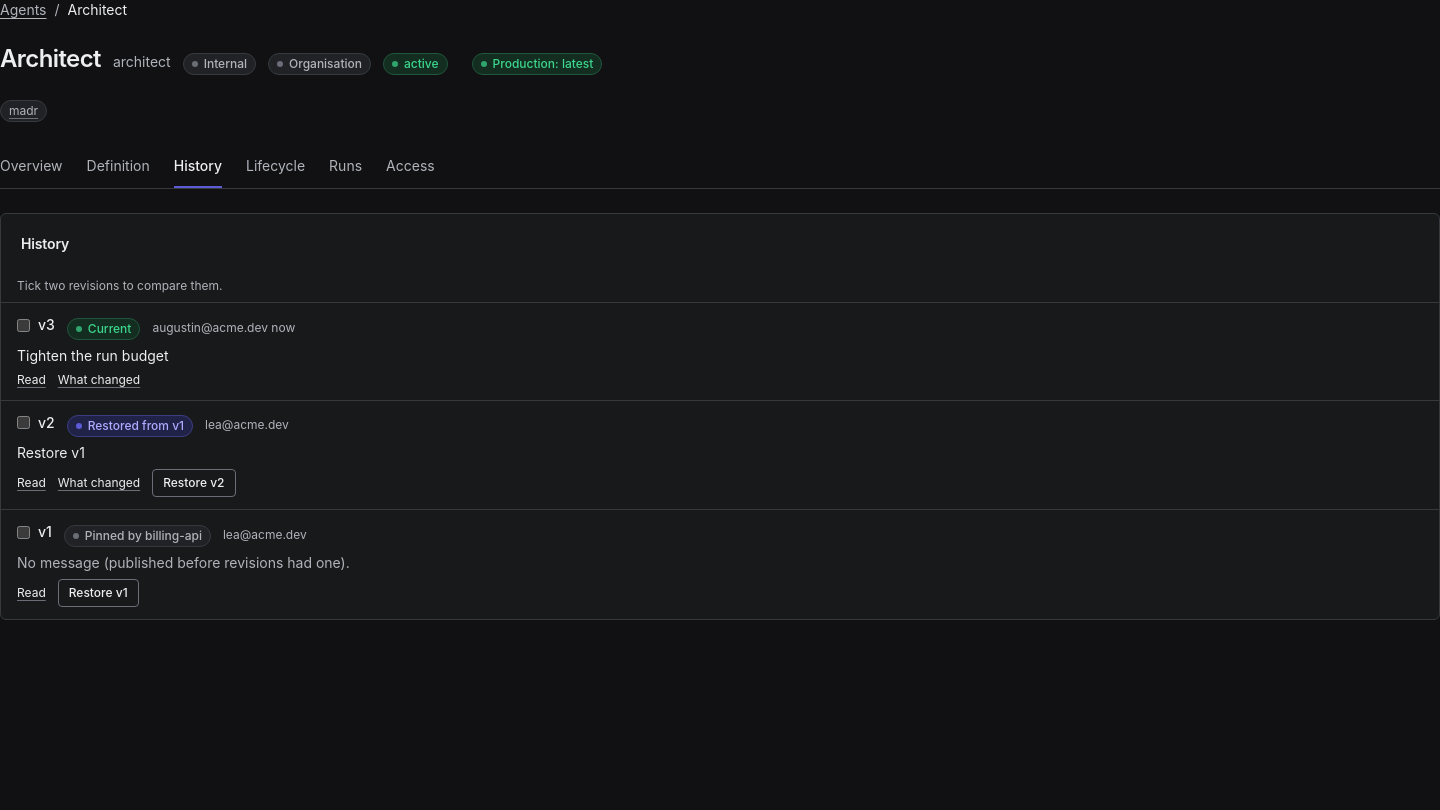
Test: the History tab › shows the refusal of a restore in words
Step 1. Click the button "Restore v2" → {"x": 194, "y": 483}, box [152, 469, 236, 497]
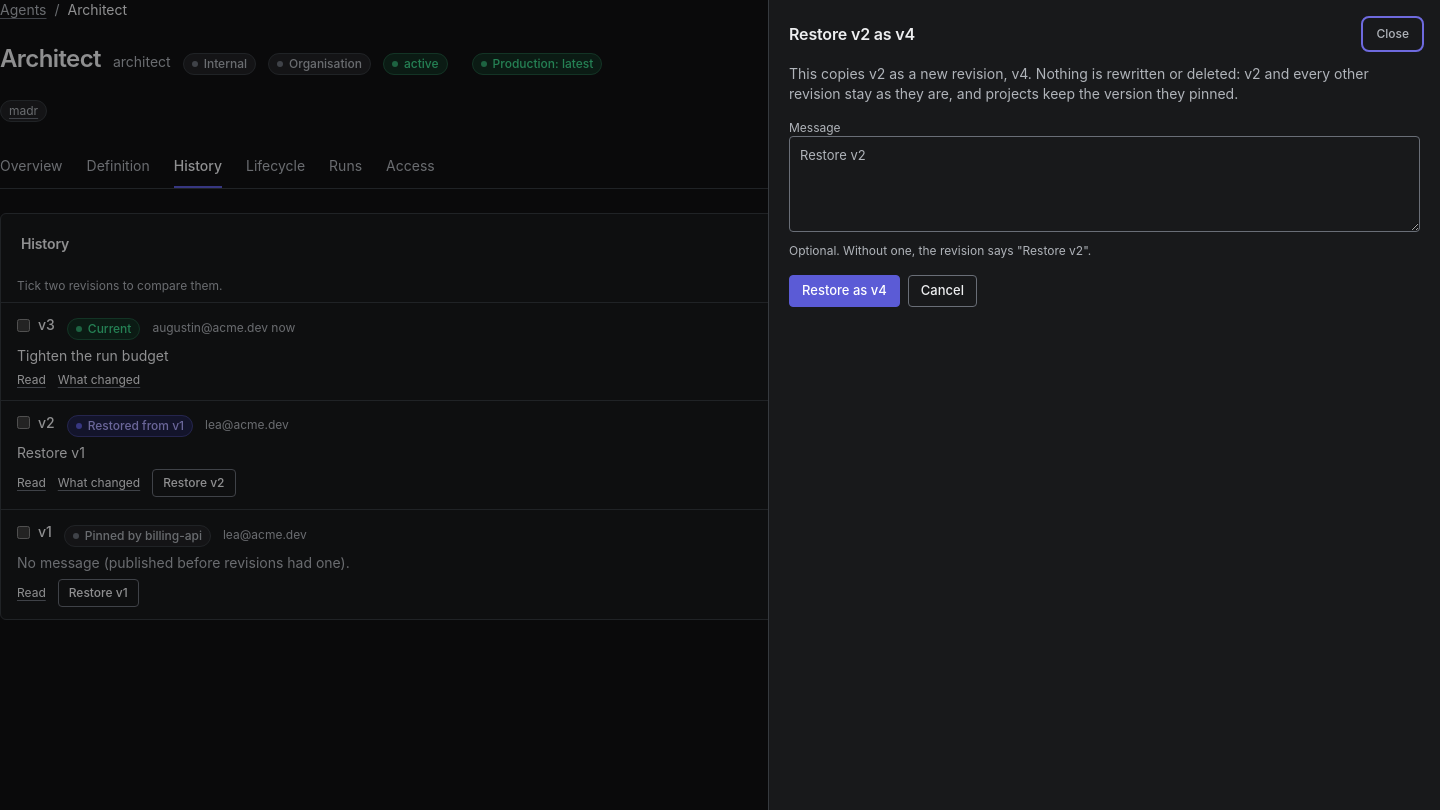
Step 2. Submit the form named "Restore", box [789, 64, 1420, 307]
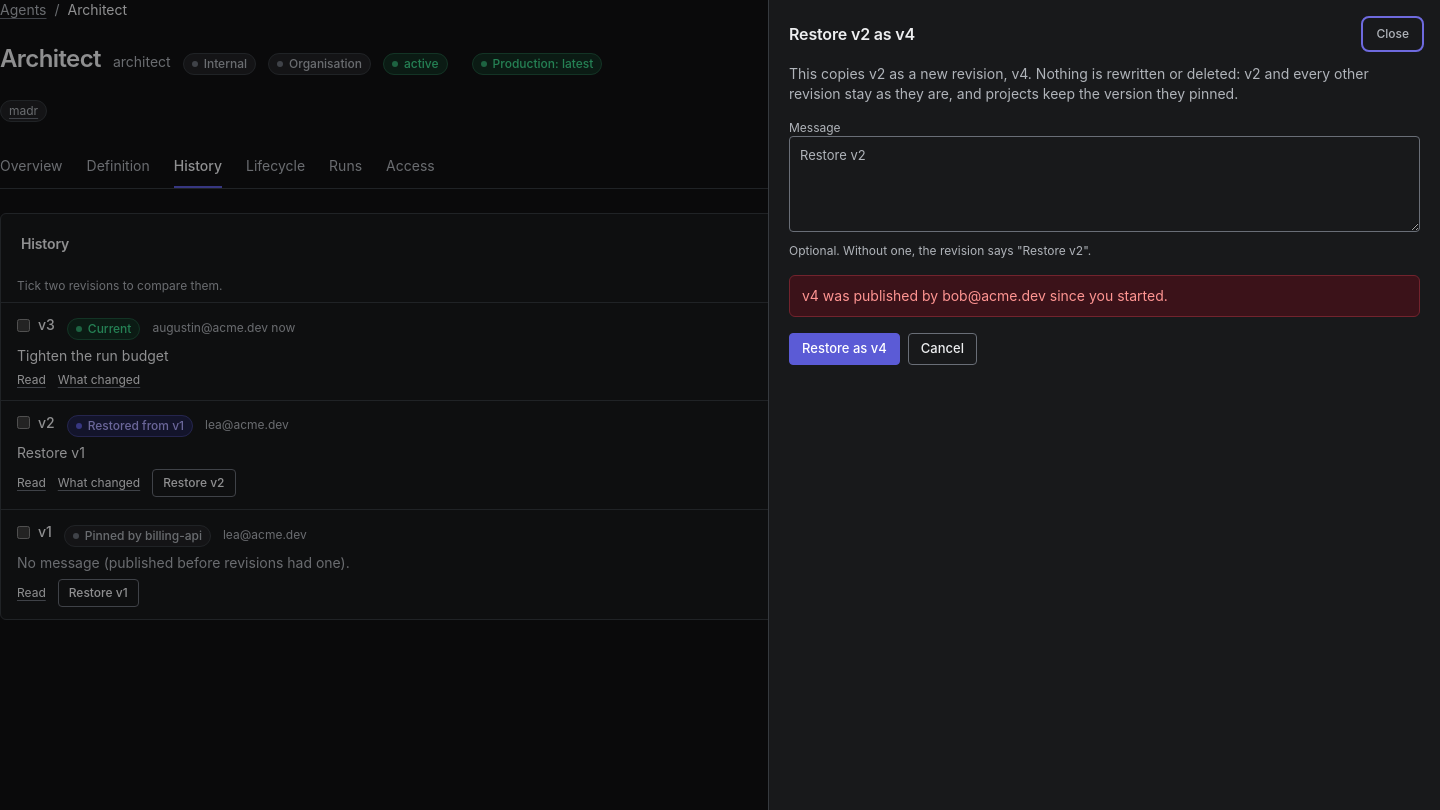
Check: the text "v4 was published by bob@acme.dev since you started." is shown, box [802, 287, 1168, 304]
